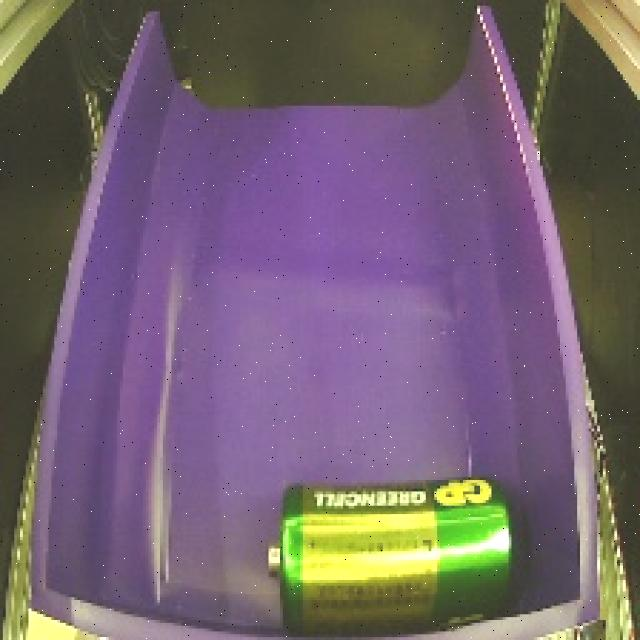battery: (249, 463, 520, 640)
